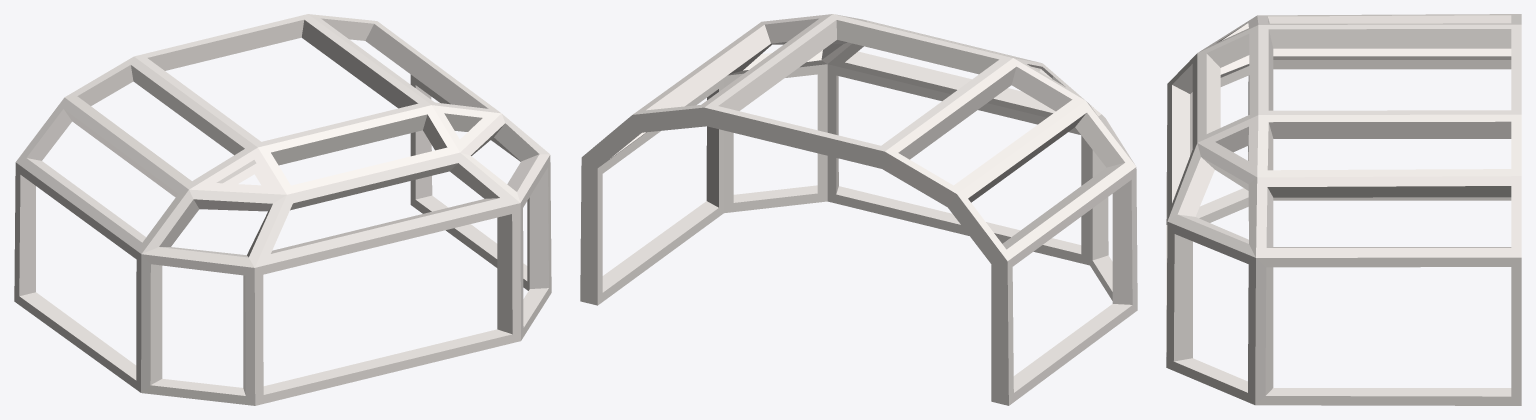
The model's file is Conserv.fbx.
3 views of the same model, side by side, from view 1: azimuth 30°, elevation 25°; view 2: azimuth 150°, elevation 25°; view 3: azimuth 270°, elevation 25° (orthographic). The views are drawn at different scales.
Parts seen in each view (by area): view 1: Conserv; view 2: Conserv; view 3: Conserv.
Boxes of the visible parts, <box> form: Conserv: <box>14,14,551,405</box>; Conserv: <box>580,14,1137,405</box>; Conserv: <box>1166,14,1521,405</box>.
Size of the model in its own units: 490 by 343 by 245.
